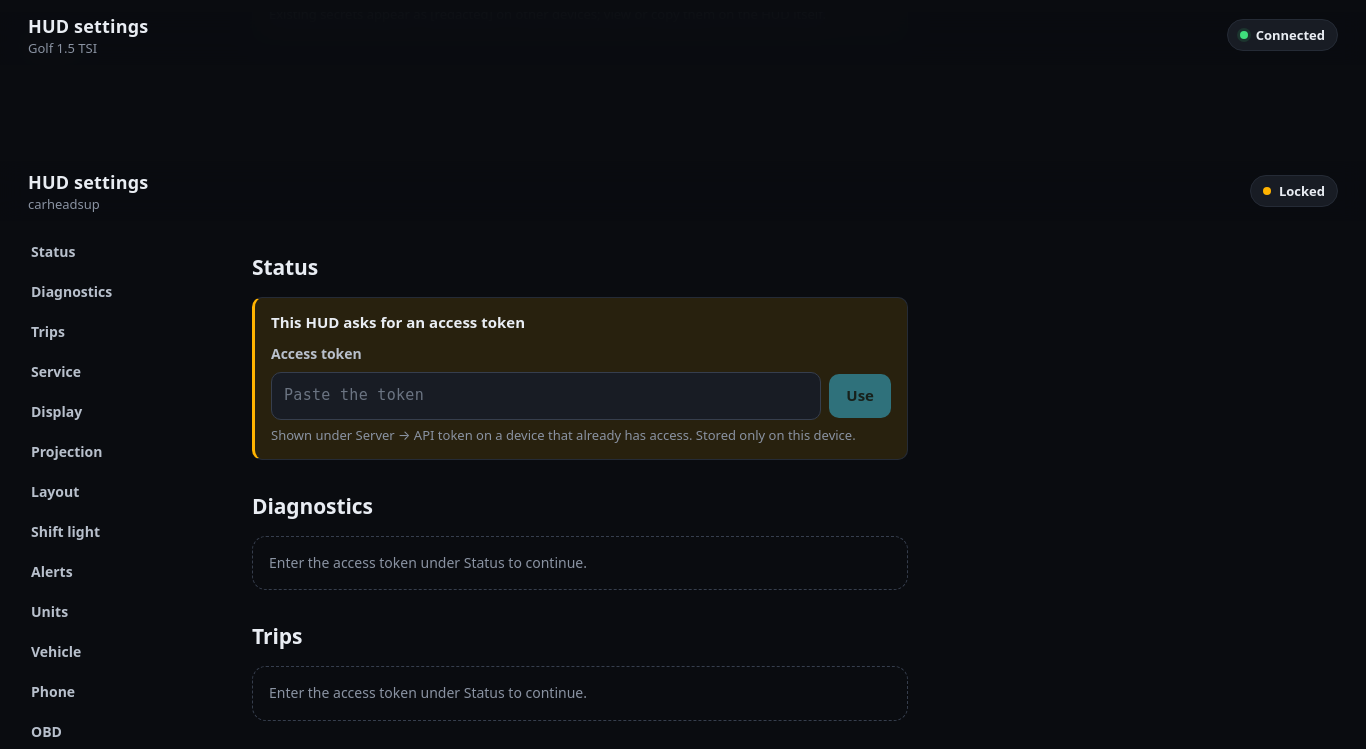
it: settings app › asks for the access token when the HUD requires one
This screenshot has width=1366, height=749.
Expected: the message "Locked" is shown, [1250, 175, 1338, 207]
In the password field with id "api-token": (546, 396) [271, 372, 821, 420], type "let-me-in"
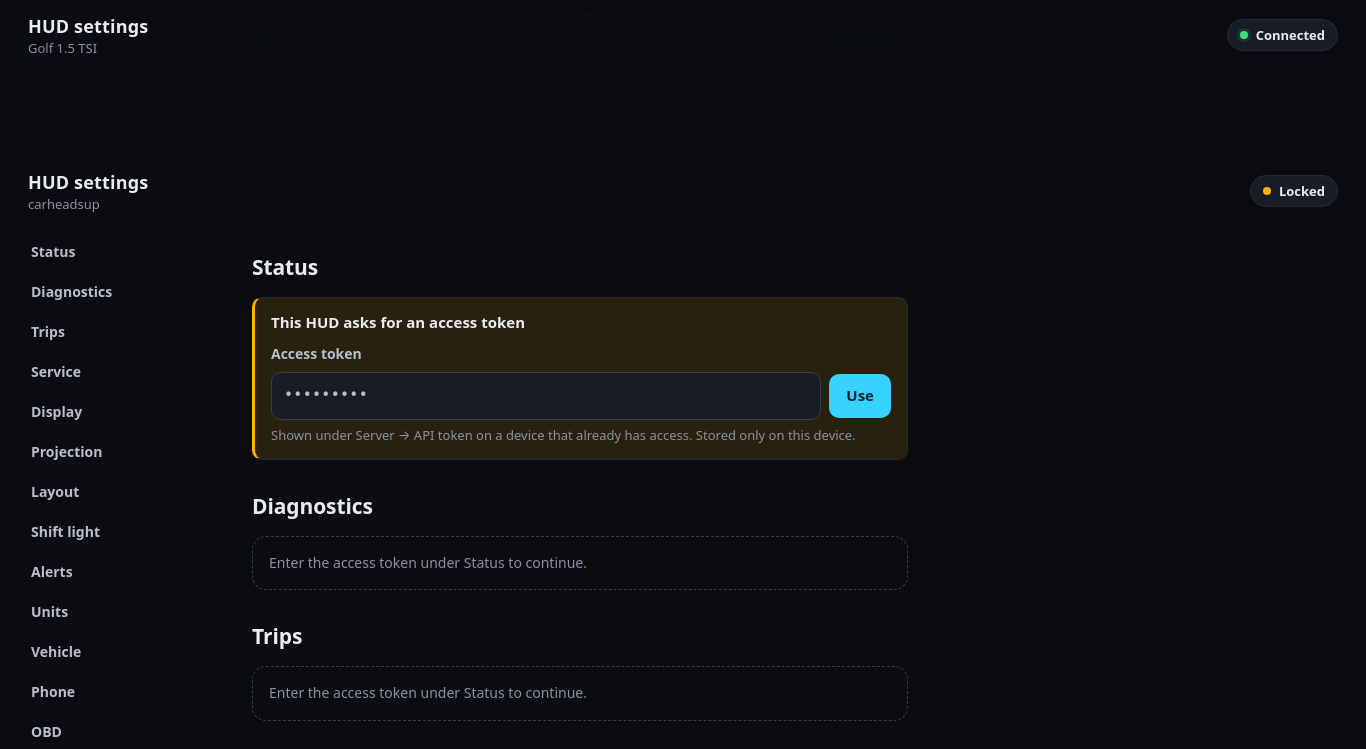
Click the button "Use": click(860, 396) [829, 374, 891, 418]
(page scrolled)
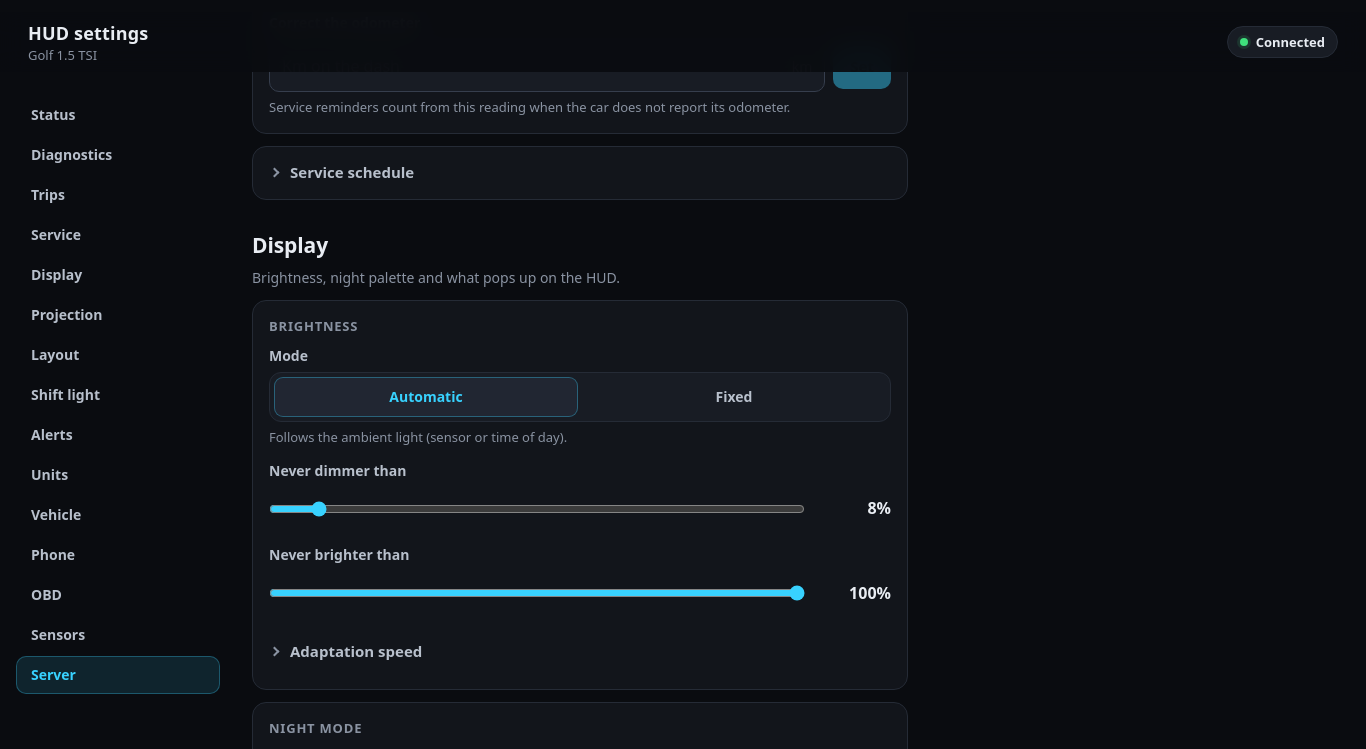
Result: the element that starts with "Mode" is shown at [269, 346, 891, 447]
